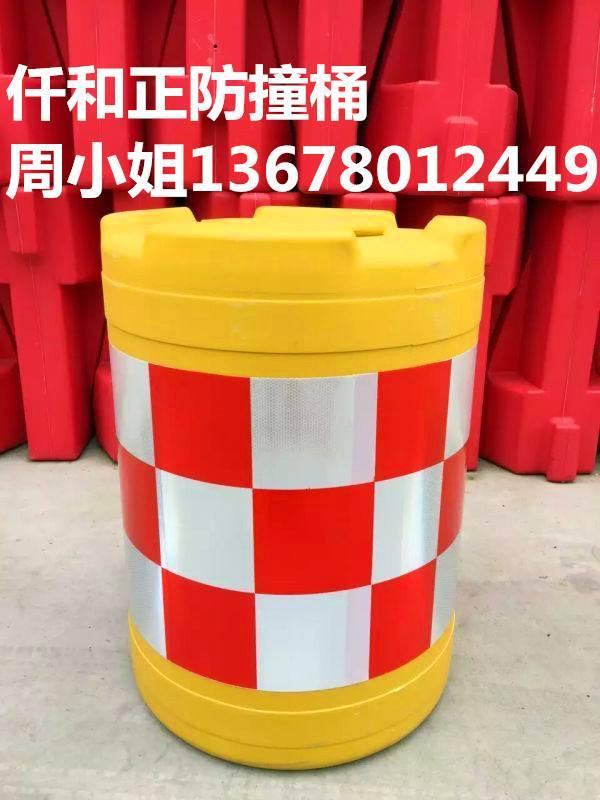sign: (86, 197, 490, 775)
